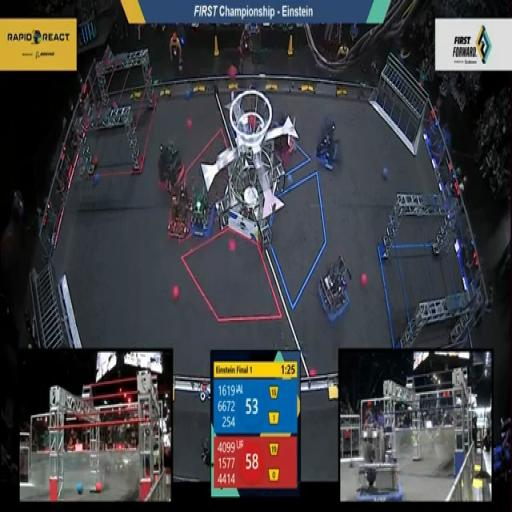robot: (316, 252, 352, 323), (312, 116, 342, 176), (155, 137, 186, 195), (166, 185, 194, 246), (270, 112, 298, 170), (190, 184, 217, 240)
